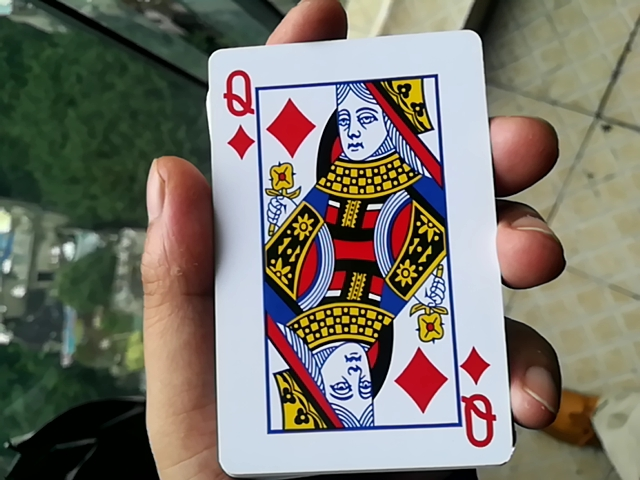fk q: (196, 36, 522, 479)
